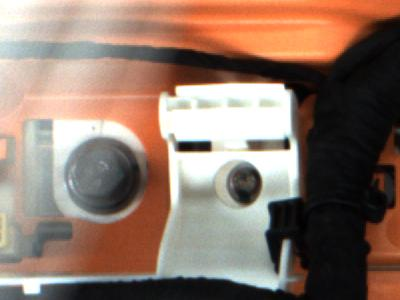nut_b: (66, 140, 138, 219)
